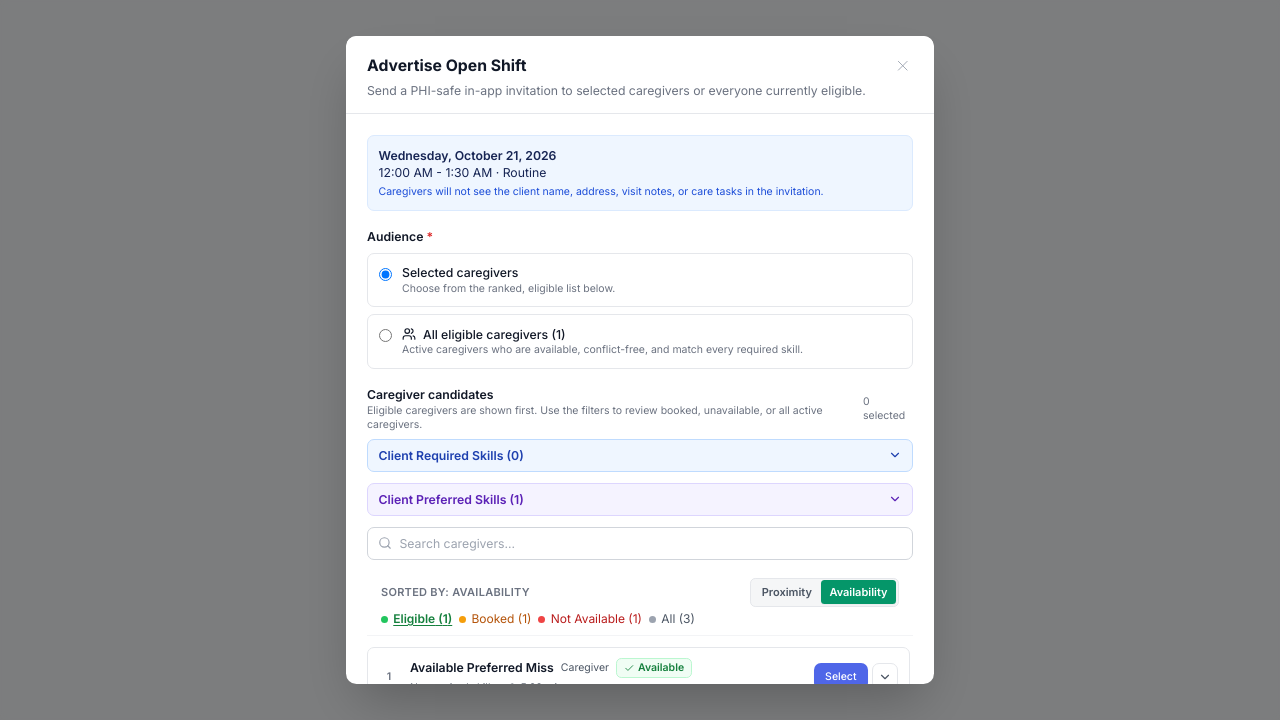
Test: VisitShiftOfferModal candidate visibility › shows every active candidate while restricting selection to eligible caregivers
Expected: the text "All eligible caregivers (1)" is shown, x1=402 y1=326 x2=566 y2=342
Expected: the text "Available Preferred Miss" is shown, x1=410 y1=659 x2=554 y2=677
Click the button "All (3)": (672, 619) x1=649 y1=610 x2=695 y2=628
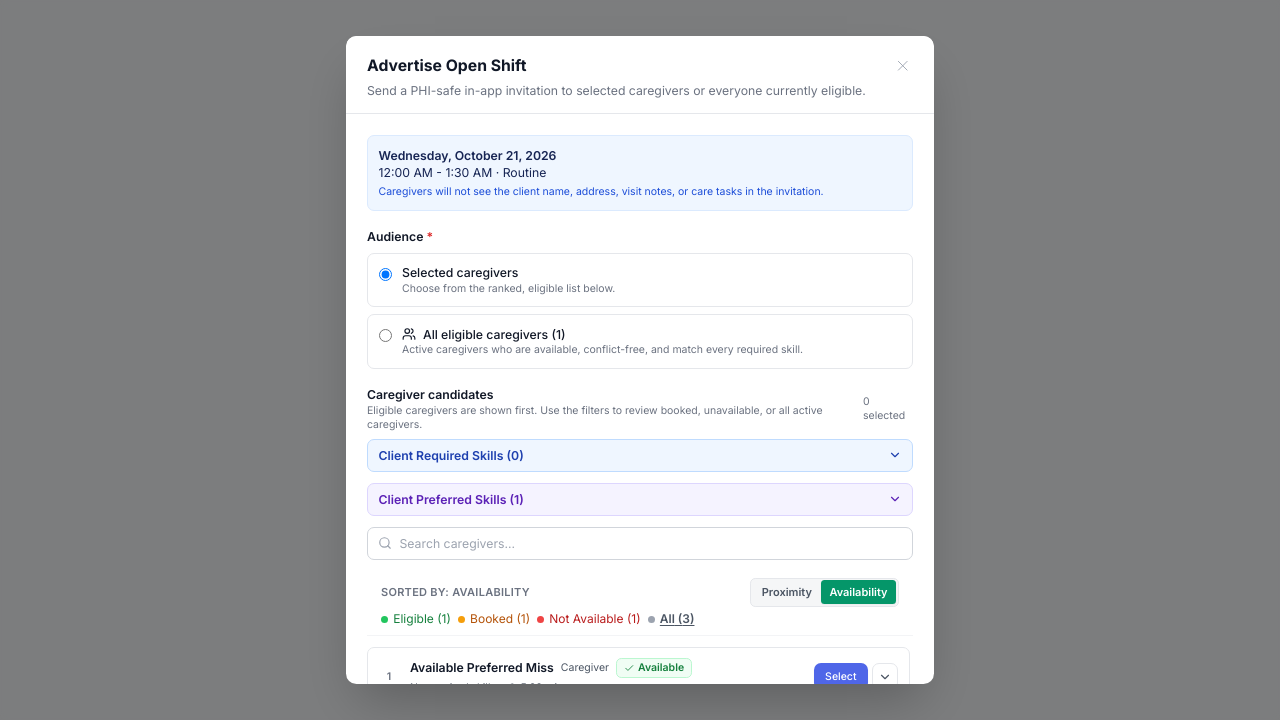
Expected: the text "Available Preferred Miss" is shown, x1=410 y1=659 x2=554 y2=677
Expected: the button "Select" is enabled, x1=814 y1=663 x2=868 y2=684
Click the button "Booked (1)": (494, 619) x1=458 y1=610 x2=530 y2=628
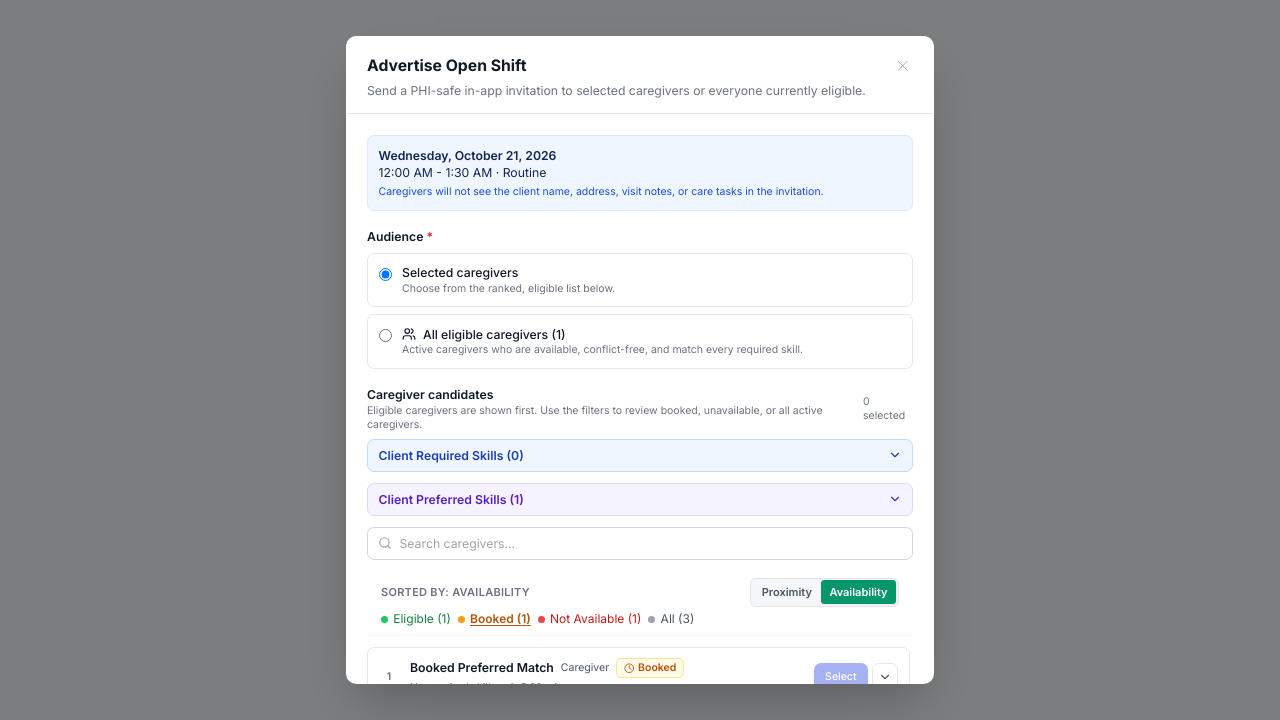
Expected: the text "Available Preferred Miss" is gone
Expected: the text "Booked Preferred Match" is shown, x1=410 y1=659 x2=554 y2=677
